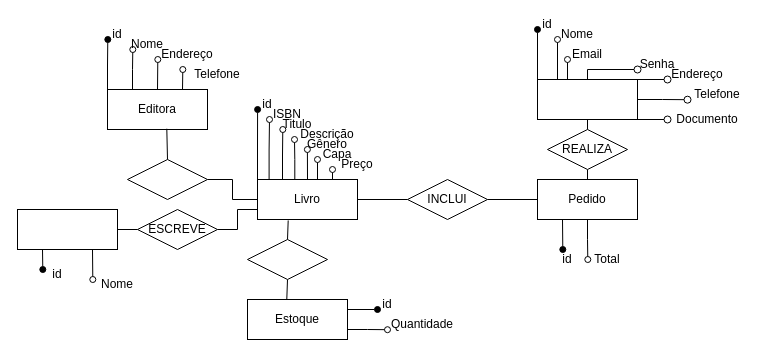
This 757x357 diagram has some shape labels left out. Each missing label, with the centre of its shape:
"Autor" goes at (67,229).
"Cliente" goes at (587,99).
"PERTENCE" goes at (287,259).
"PUBLICA" goes at (167,179).
